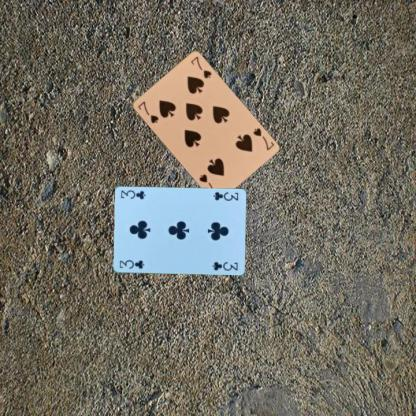3c: (116, 257, 146, 270), (210, 190, 240, 202)
7s: (134, 99, 160, 125), (250, 126, 275, 152)
